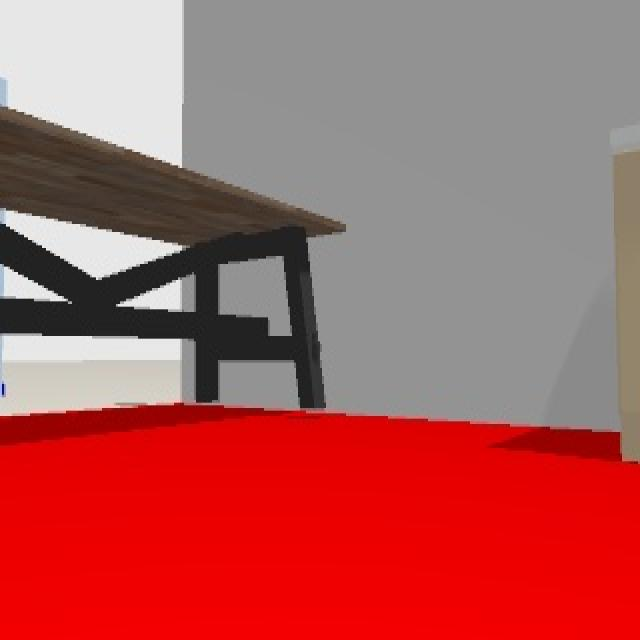dining: (2, 105, 346, 417)
